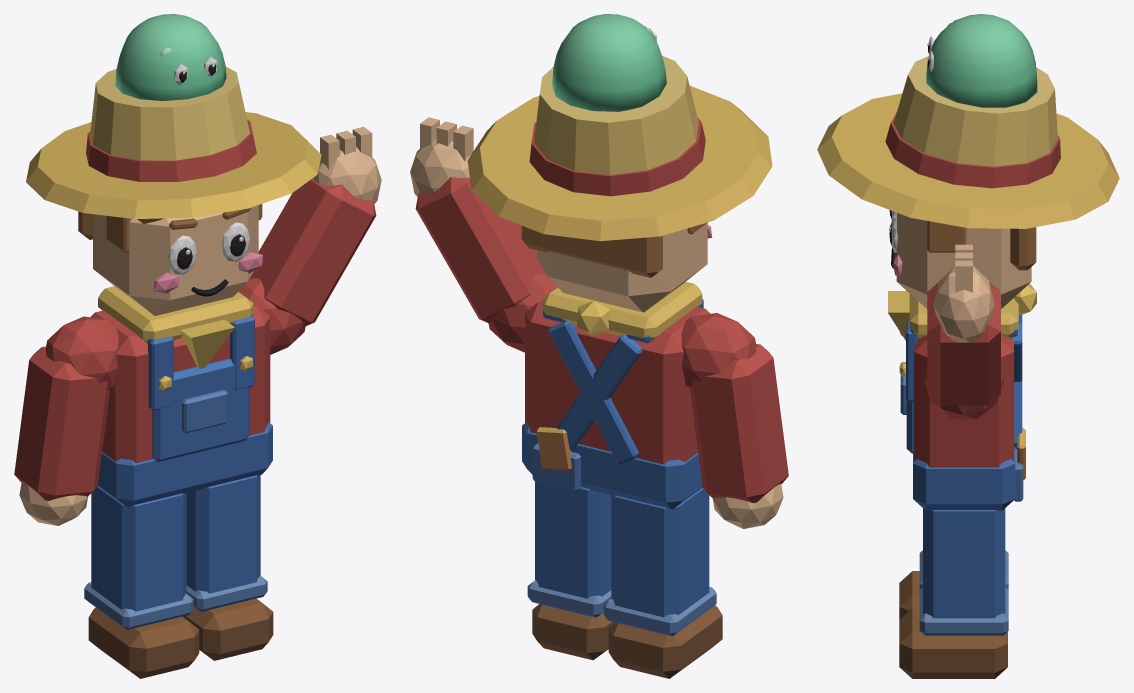
The model's file is ranch_guide.fbx.
The picture shows the model from 3 angles, left to right: view 1: azimuth 30°, elevation 25°; view 2: azimuth 150°, elevation 25°; view 3: azimuth 270°, elevation 25°; orthographic projection. The views are drawn at different scales.
Parts seen in each view (by area): view 1: ranch_guide; view 2: ranch_guide; view 3: ranch_guide.
Boxes of the visible parts, box(x1,y1,x2,y2) form: ranch_guide: box(14, 14, 381, 678); ranch_guide: box(410, 14, 788, 678); ranch_guide: box(817, 14, 1119, 678).
Size of the model in its own units: 4.77 by 7.99 by 3.48.
